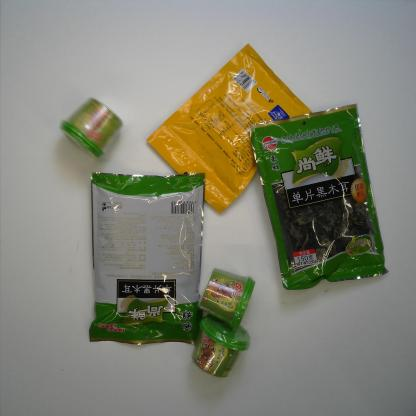Dried Food: (248, 102, 390, 292), (89, 171, 206, 346)
Dried Fruit: (145, 43, 314, 215)
Instant Drink: (190, 312, 252, 378), (59, 97, 124, 159), (197, 267, 256, 332)
